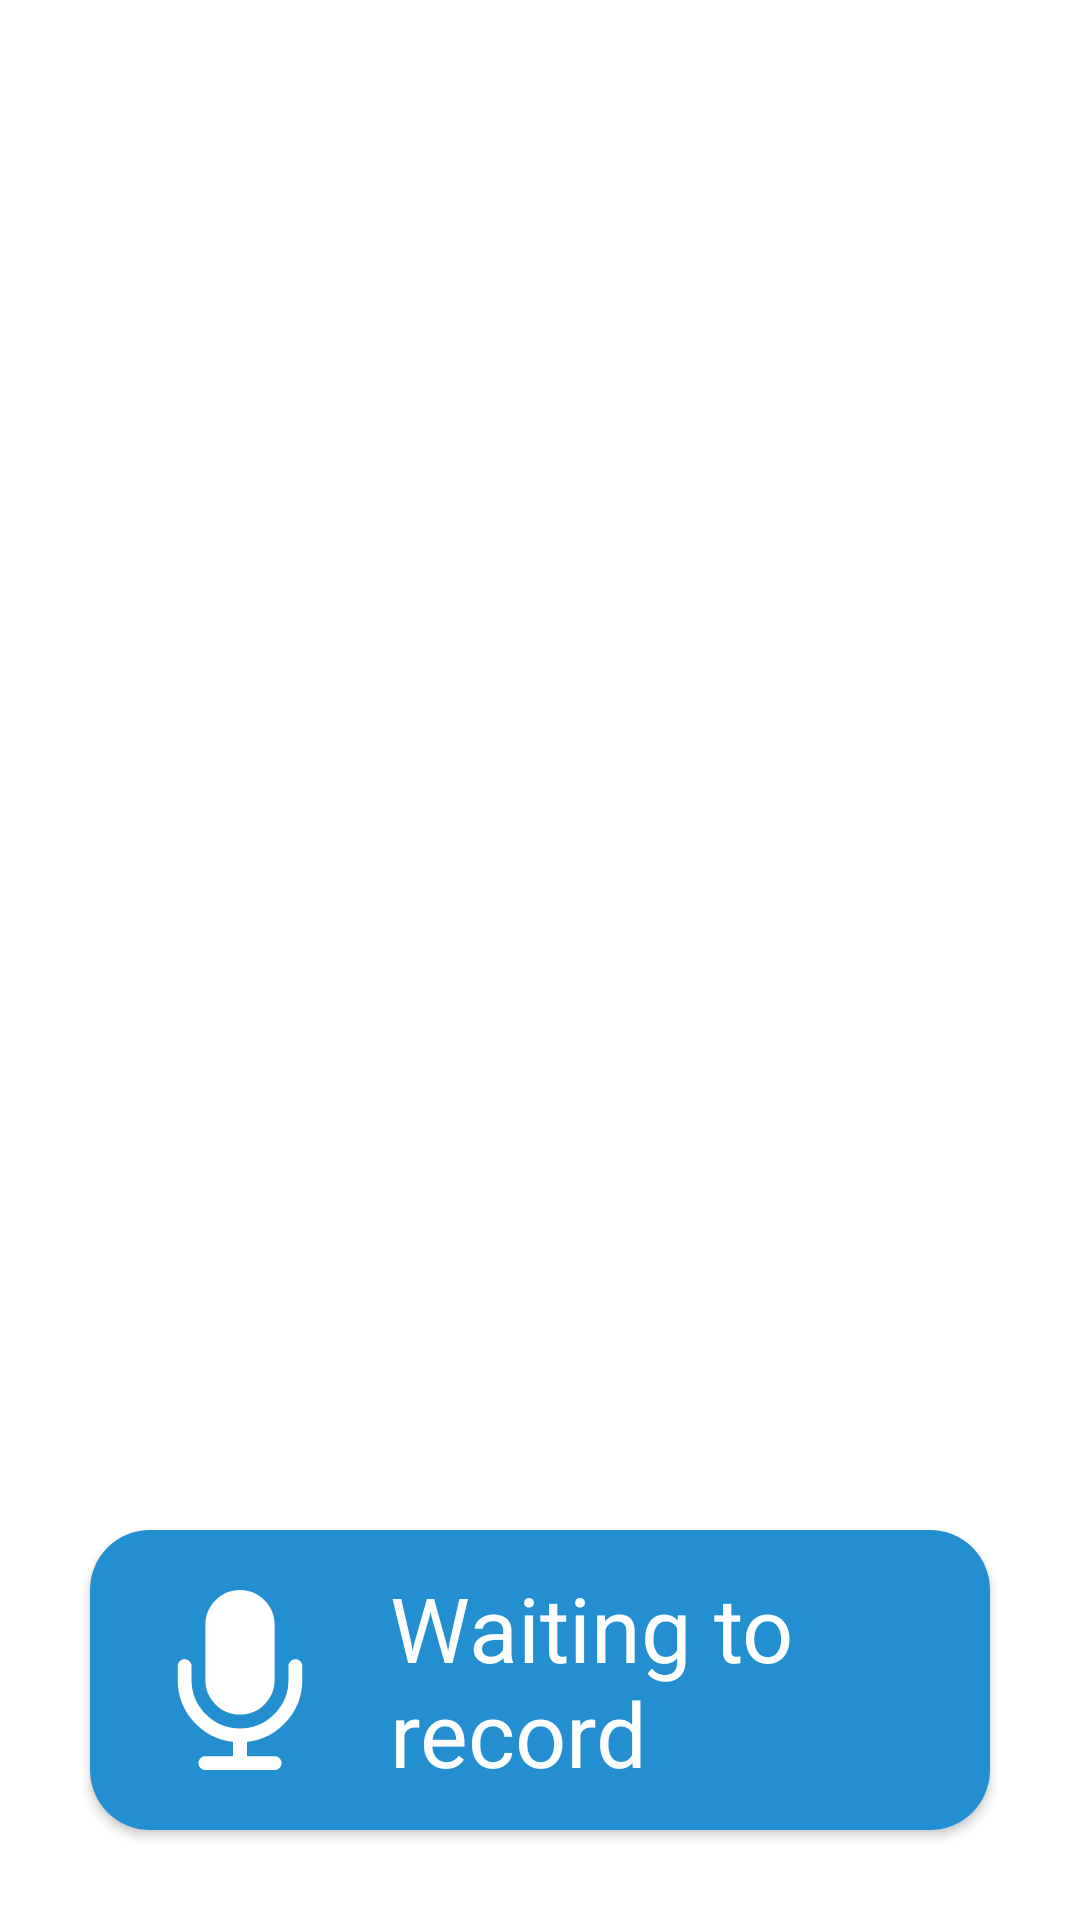

Screen size 1080w x 1920h. Icon name, then its center in pixels as (x,y):
microphone shape: (240,1680)
